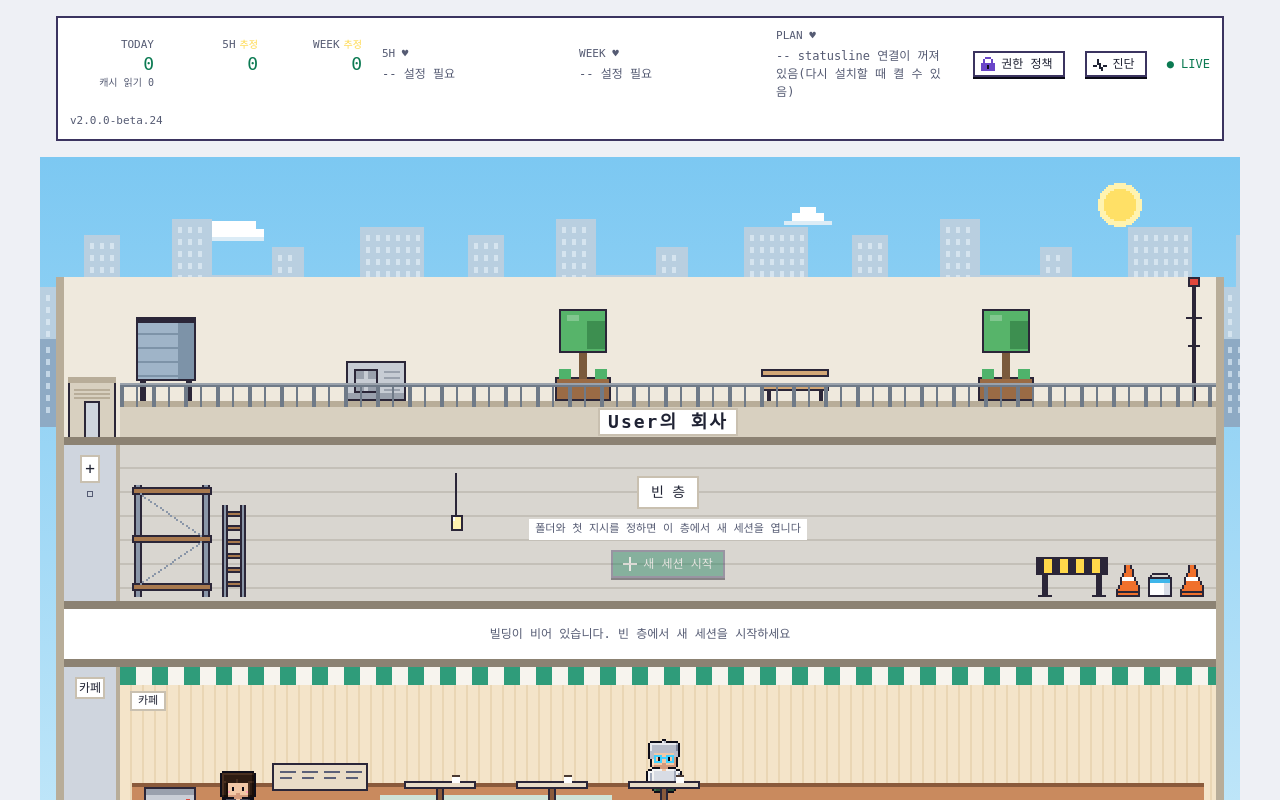
목록 서랍(§4) › 리드와 그 밖의 모든 행은 규칙이 없어도 늘 있다(B95)
Click the button with aria-label "권한 정책 열기".
click(1019, 64)  # box x1=973 y1=51 x2=1064 y2=77
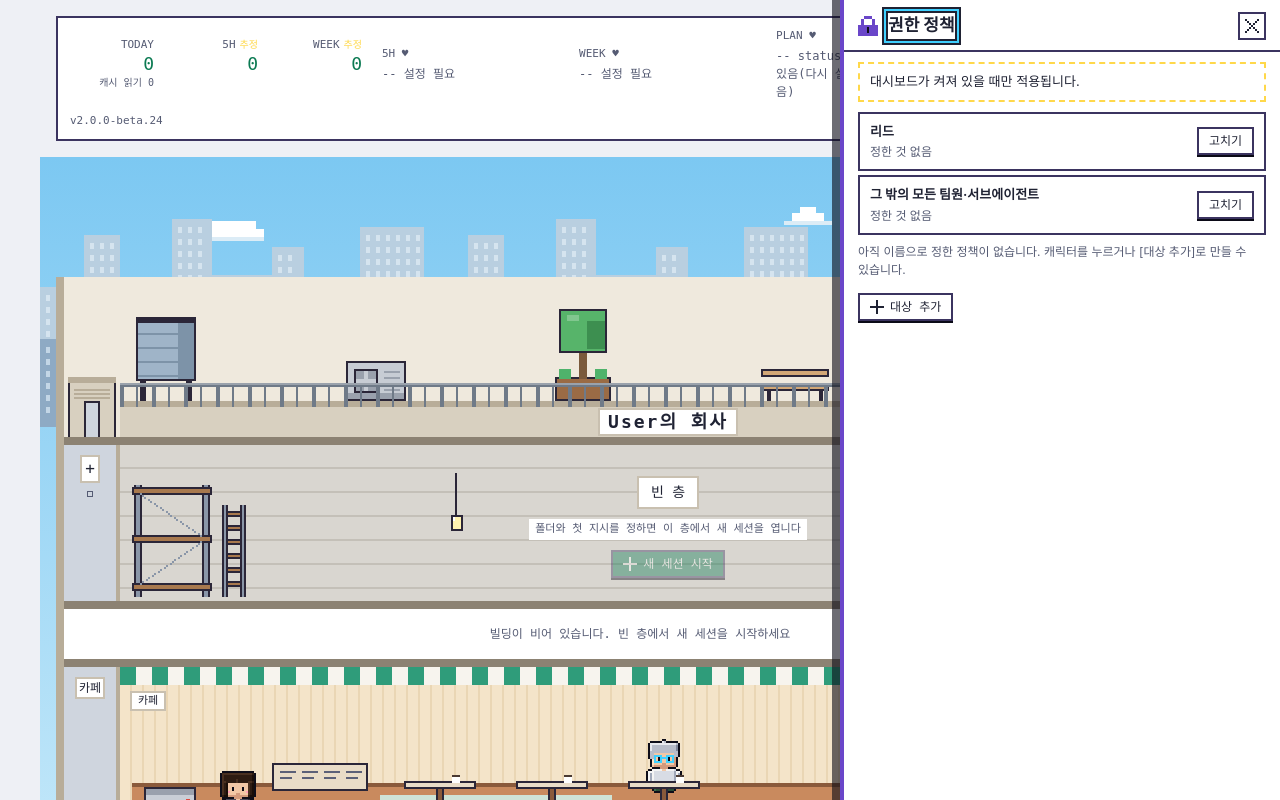
Check: the list item "리드 정한 것 없음 고치기" is shown, box x1=858 y1=112 x2=1266 y2=171
Check: the list item "그 밖의 모든 팀원·서브에이전트 정한 것 없음 고치기" is shown, box x1=858 y1=175 x2=1266 y2=234
Check: the dialog shows "아직 이름으로 정한 정책이 없습니다. 캐릭터를 누르거나 [대상 추가]로 만들 수 있습니다.", box x1=858 y1=244 x2=1246 y2=276
